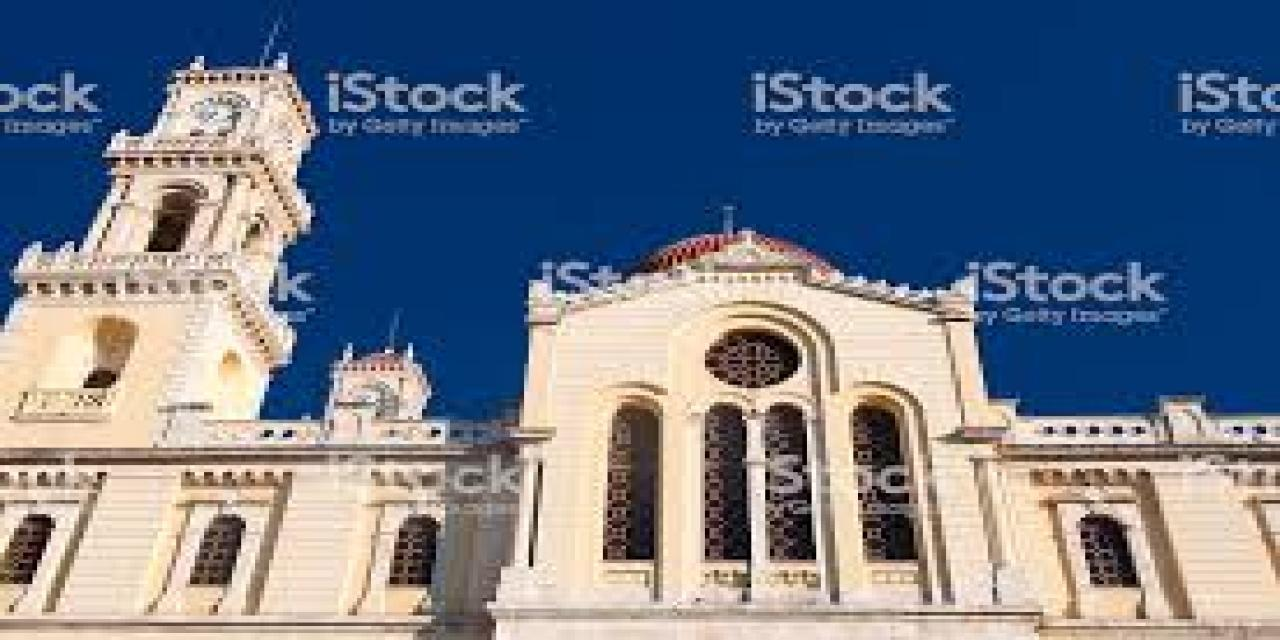Agios Minas: (8, 50, 1280, 640)
